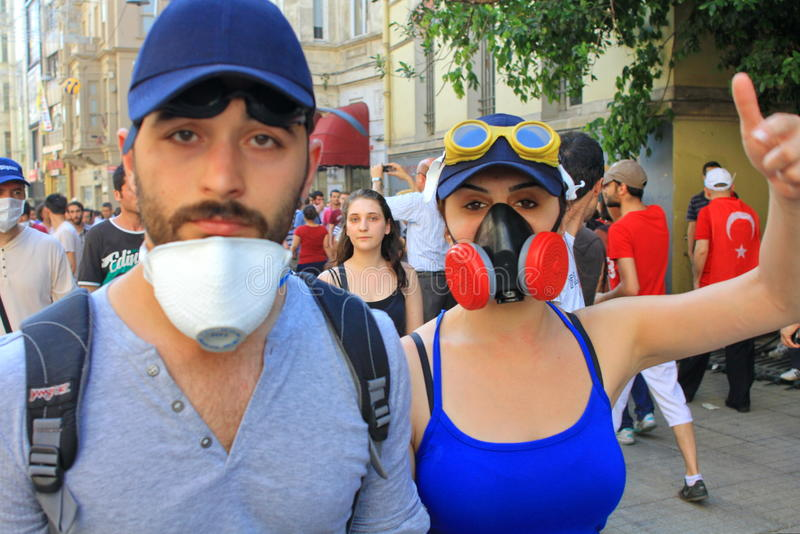with_incorrect_mask: (143, 109, 298, 358)
with_mask: (449, 174, 570, 312), (1, 176, 30, 233)
without_mask: (350, 196, 391, 254)
